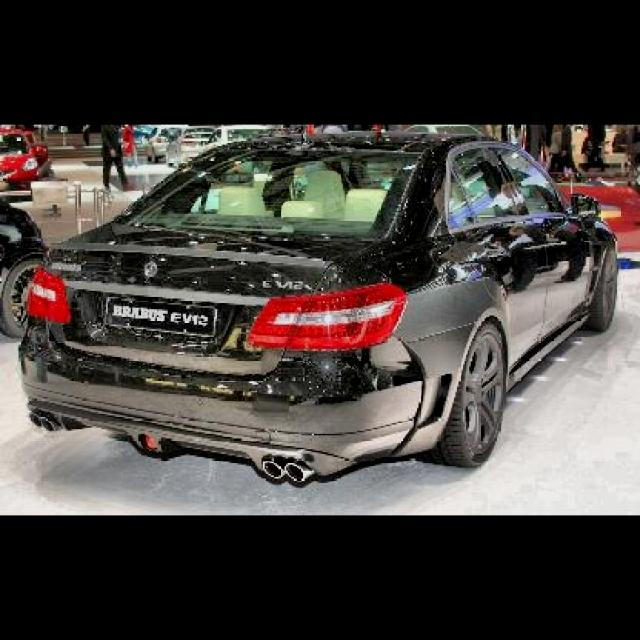black: (21, 131, 619, 480)
